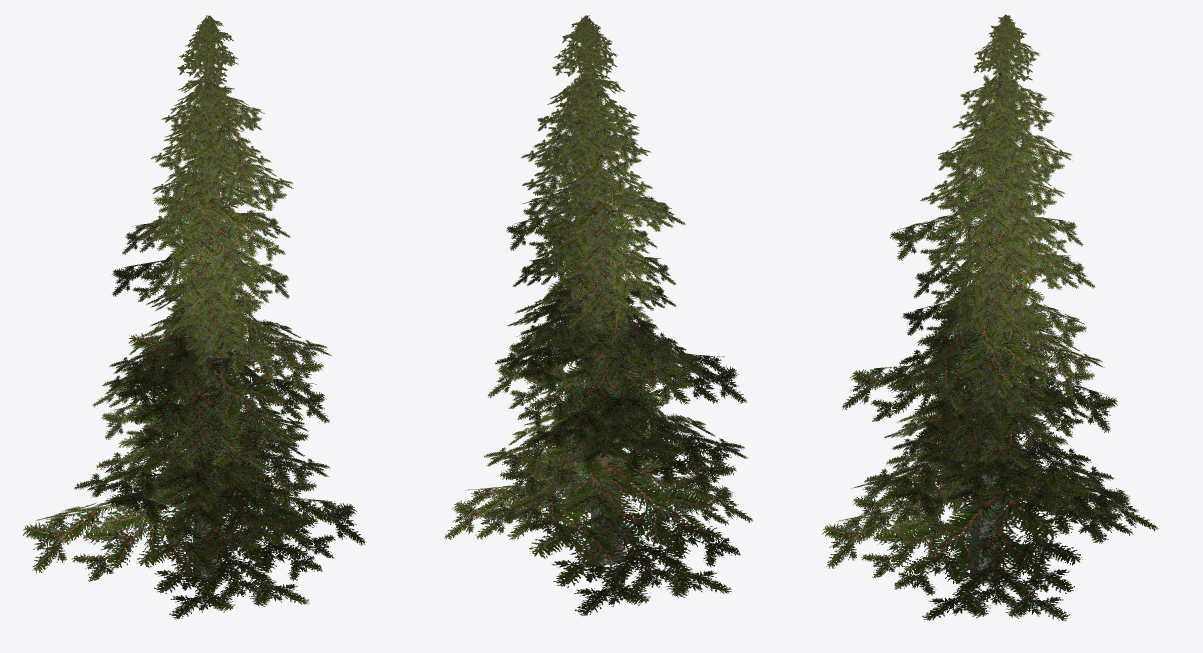
File: spruce-2.glb
The picture shows the model from 3 angles, left to right: view 1: azimuth 30°, elevation 25°; view 2: azimuth 150°, elevation 25°; view 3: azimuth 270°, elevation 25°; orthographic projection. The views are drawn at different scales.
Parts seen in each view (by area): view 1: spruce-2; view 2: spruce-2; view 3: spruce-2.
Part boxes in pixels (<box>): spruce-2: <box>23,15,366,619</box>; spruce-2: <box>444,15,752,615</box>; spruce-2: <box>822,14,1158,620</box>.
Size of the model in its own units: 11.55 by 18.35 by 11.16.
1 material, 1 textured.
